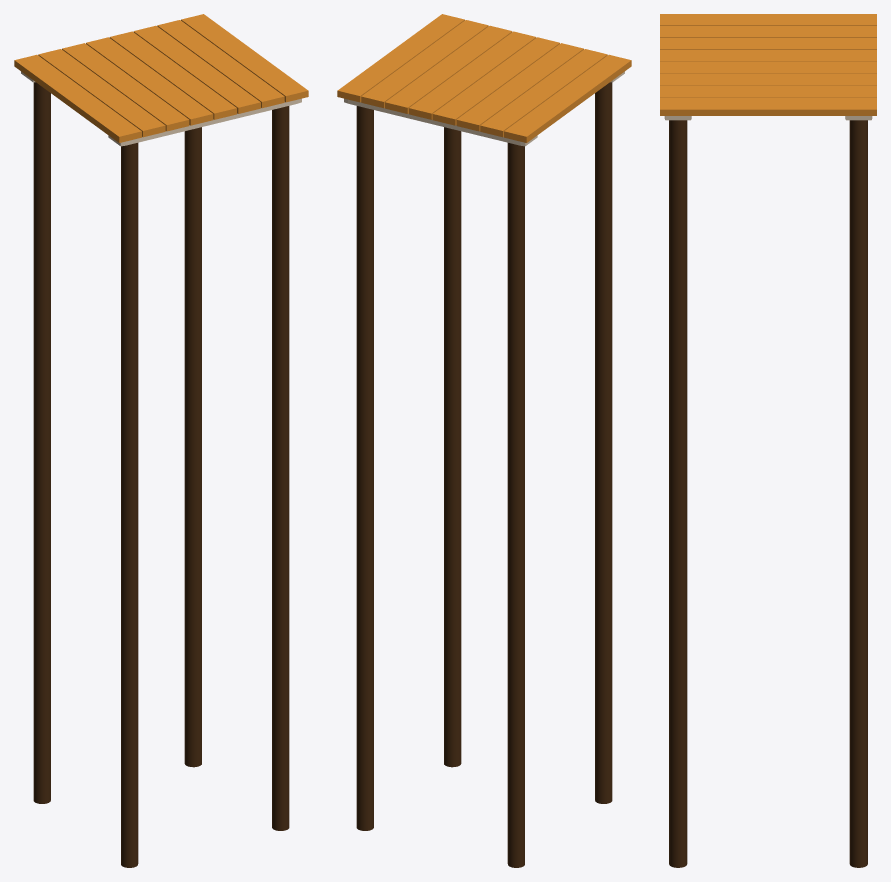
The model's file is Pier.fbx.
3 views of the same model, side by side, from view 1: azimuth 30°, elevation 25°; view 2: azimuth 150°, elevation 25°; view 3: azimuth 270°, elevation 25° (orthographic). The views are drawn at different scales.
Parts seen in each view (by area): view 1: Poles, Platform, Connector; view 2: Poles, Platform, Connector; view 3: Poles, Platform.
Boxes of the visible parts, <box> form: Poles: <box>33,82,289,867</box>; Platform: <box>14,14,308,142</box>; Connector: <box>21,71,301,146</box>; Poles: <box>356,82,612,867</box>; Platform: <box>337,14,631,142</box>; Connector: <box>344,71,624,146</box>; Poles: <box>669,120,867,867</box>; Platform: <box>660,14,876,115</box>.
Size of the model in its own units: 2505 by 9336 by 2400.
